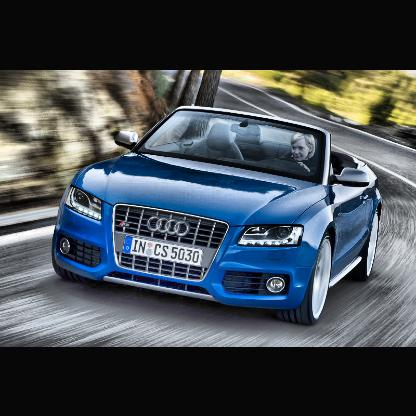Audi S5 Convertible 2012: (51, 105, 382, 328)
